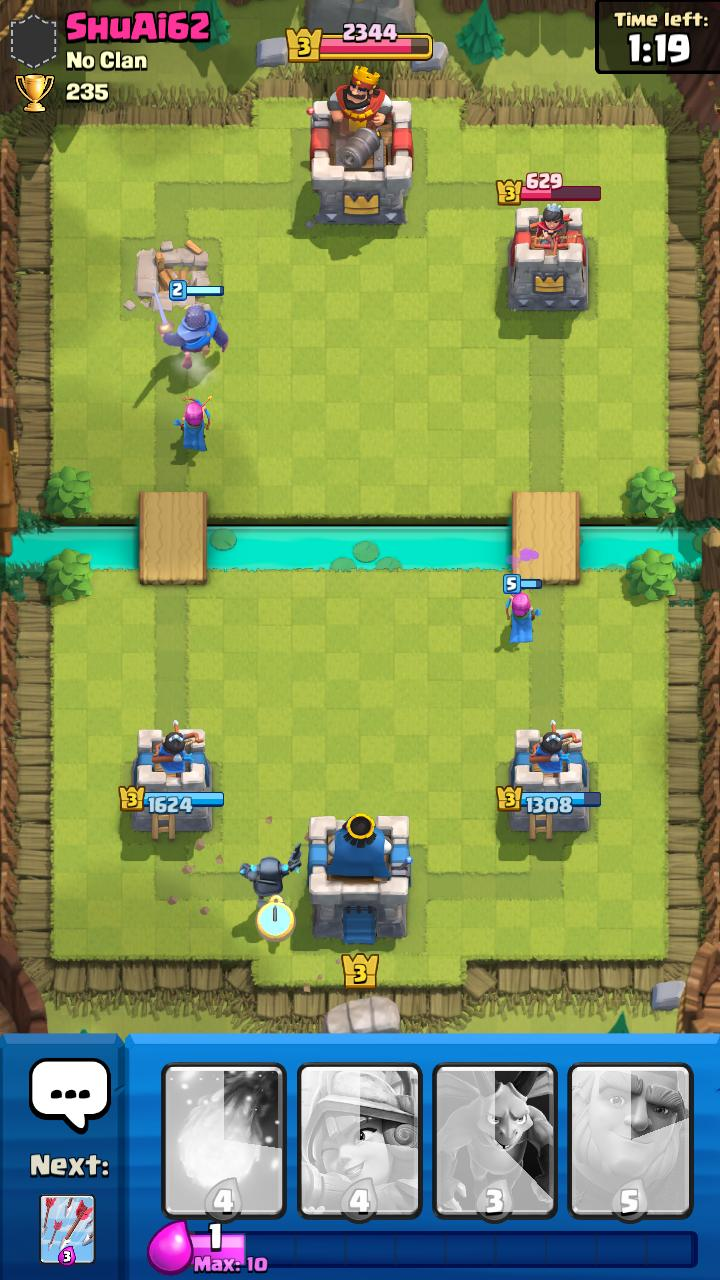ally: (153, 280, 229, 369), (239, 842, 302, 907), (503, 574, 542, 643), (173, 396, 212, 452)
